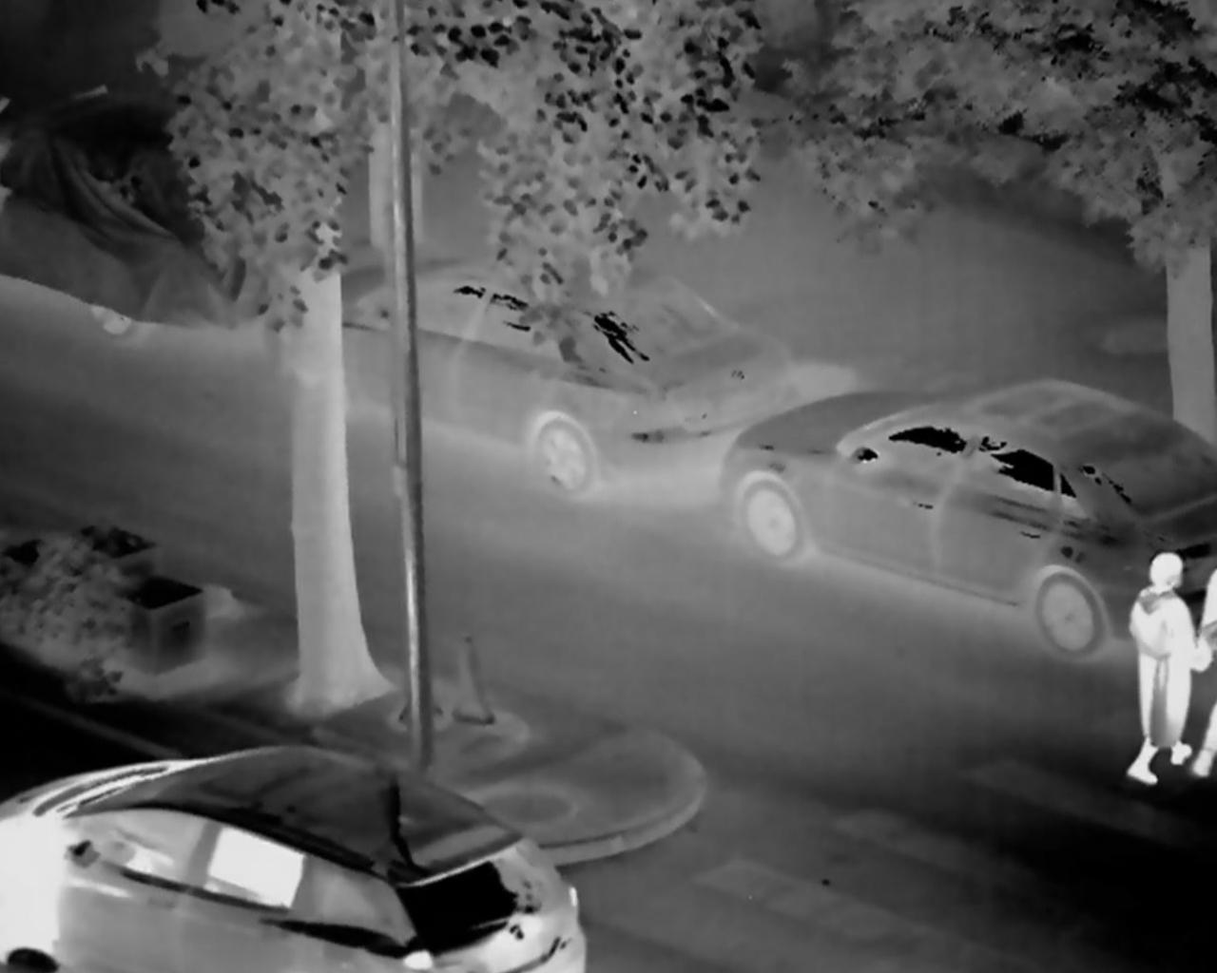person: (1120, 549, 1206, 781)
